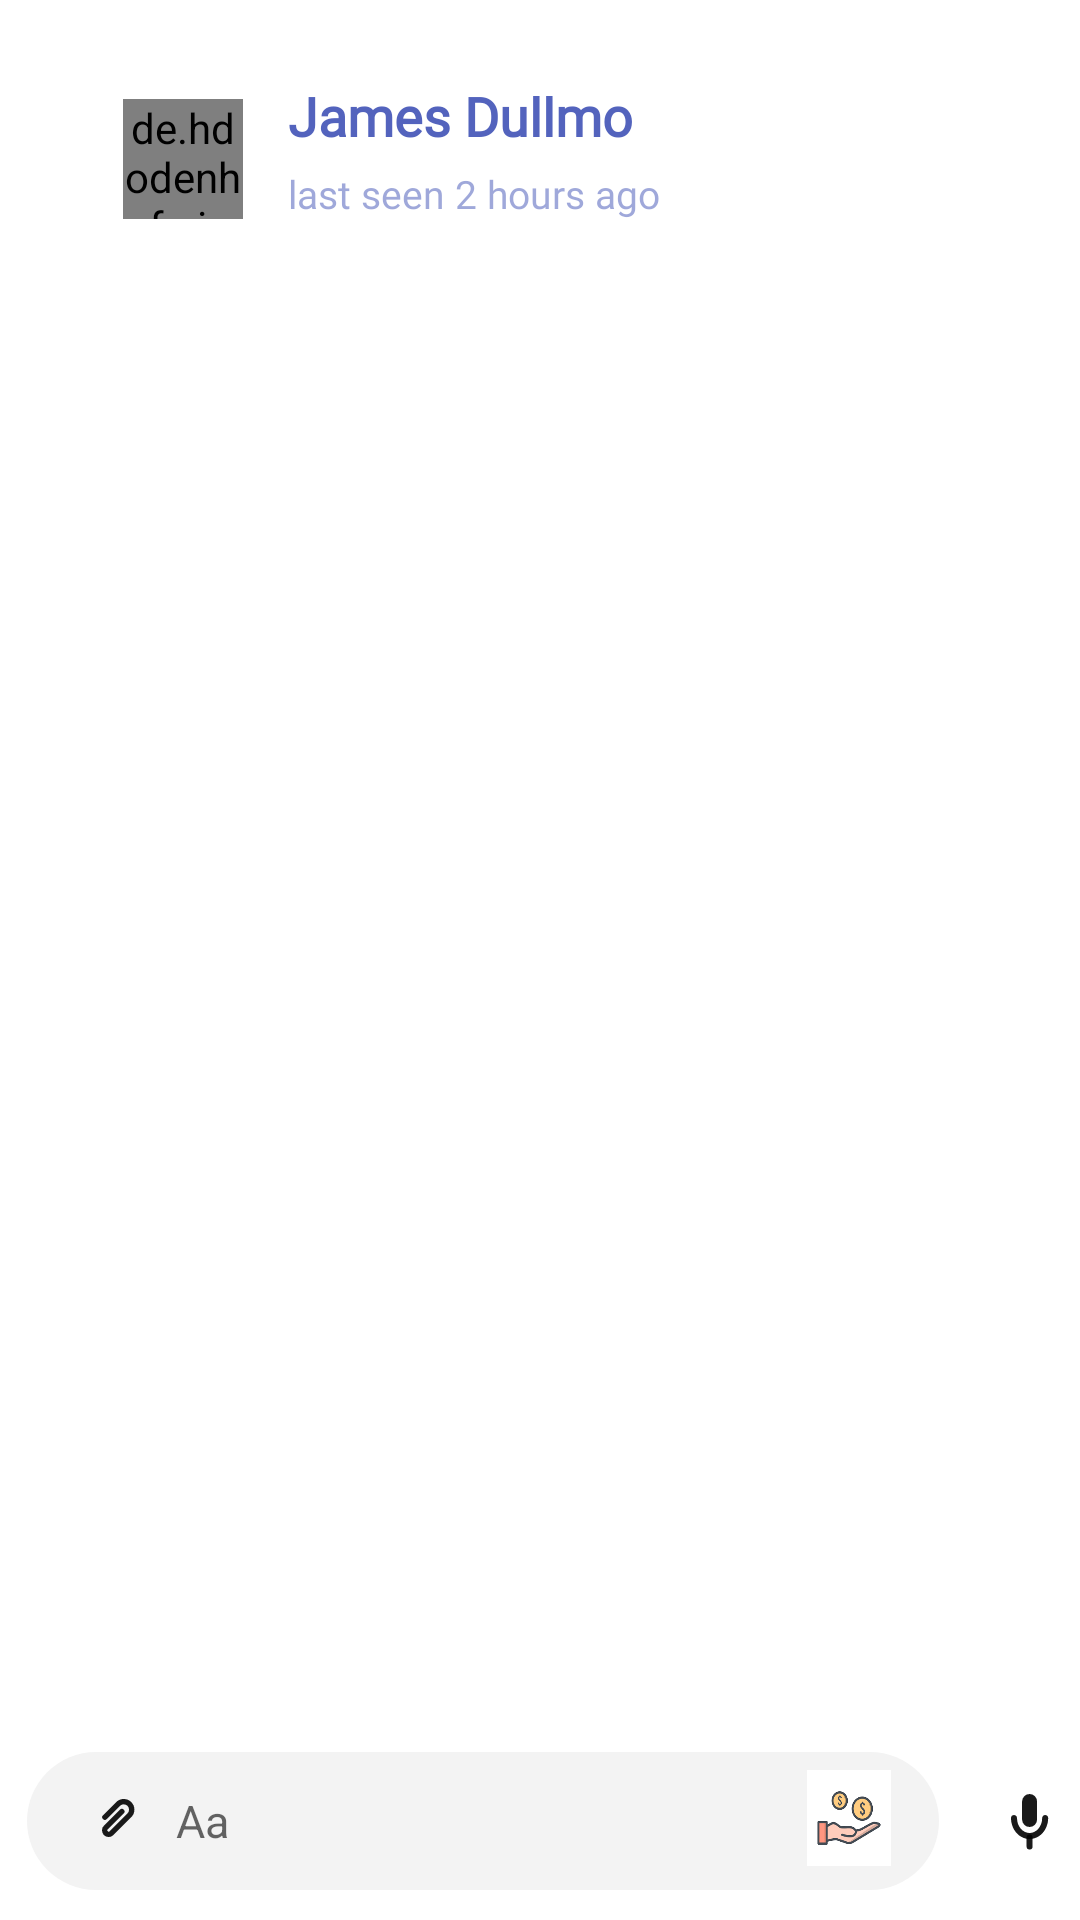

Icons on this 1080w x 1920h Android screen, each with the point to tap as (x=x, y=y):
attachment: (x=118, y=1818)
pay: (x=849, y=1818)
